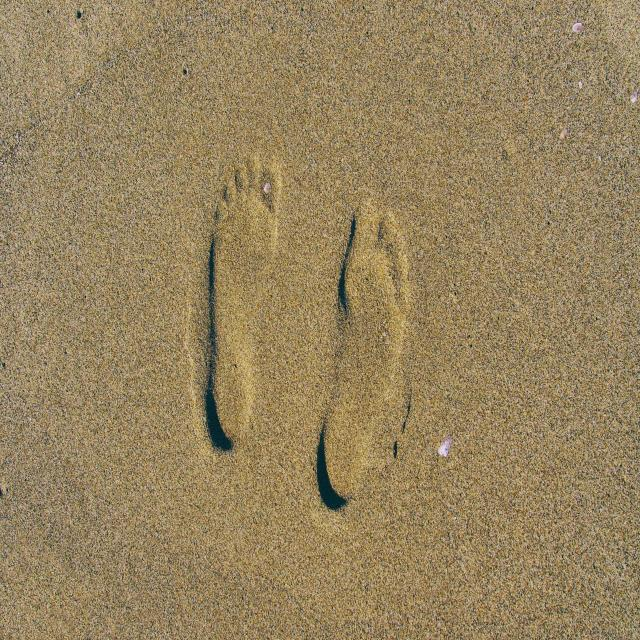human_foot_print: (119, 106, 495, 523)
